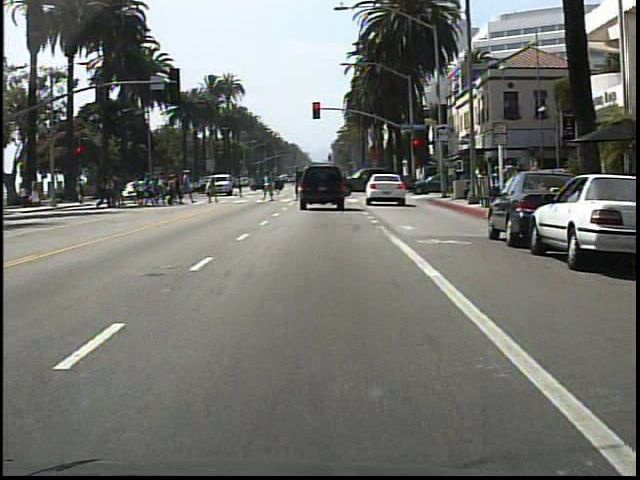person: (487, 160, 503, 204), (230, 169, 249, 204)
